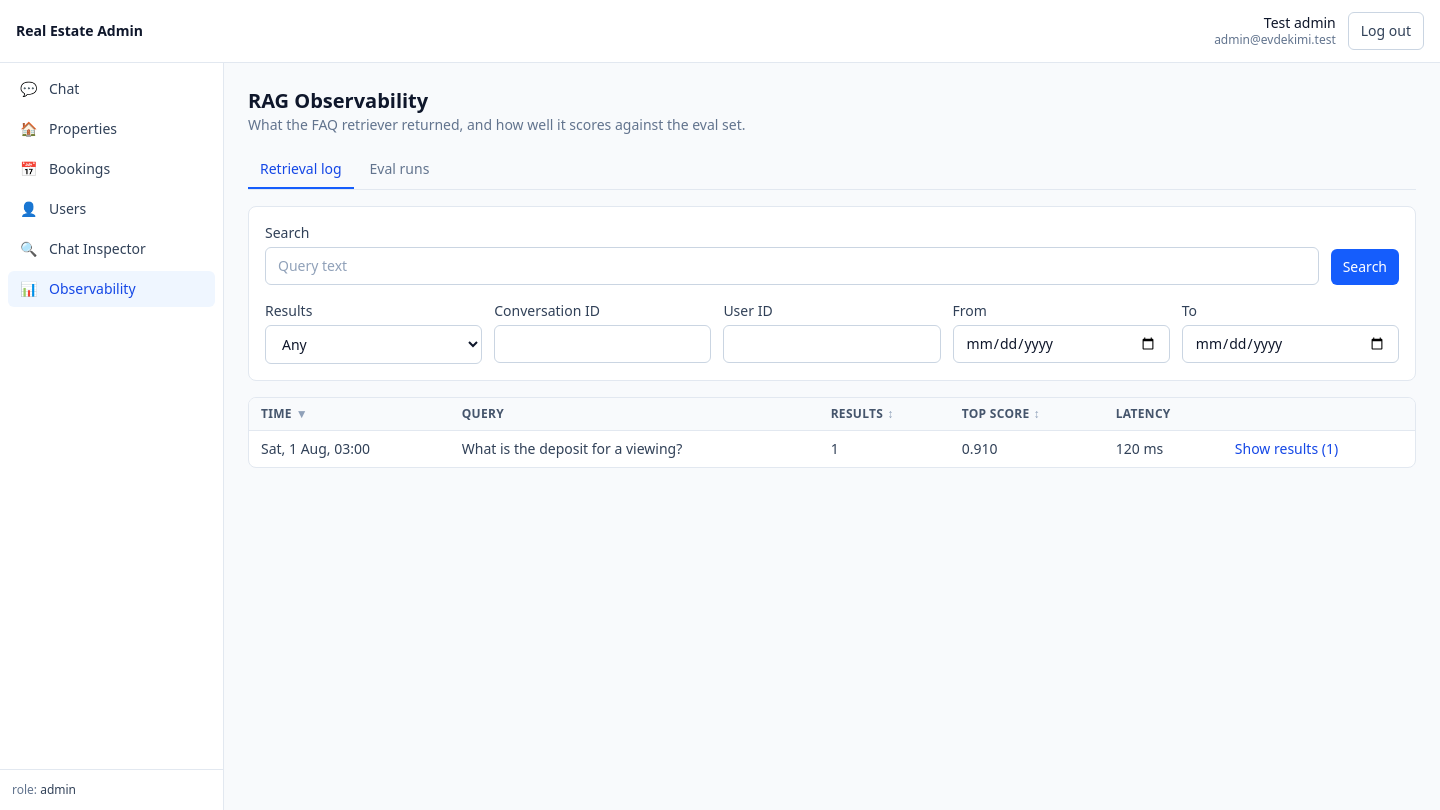
Test: ObservabilityPage eval runs tab › switches tabs without carrying the retrieval log page state over
Expected: the text "What is the deposit for a viewing?" is shown, [450,430,819,467]
Click the tab "Eval runs": point(400, 170) [358,151,441,189]
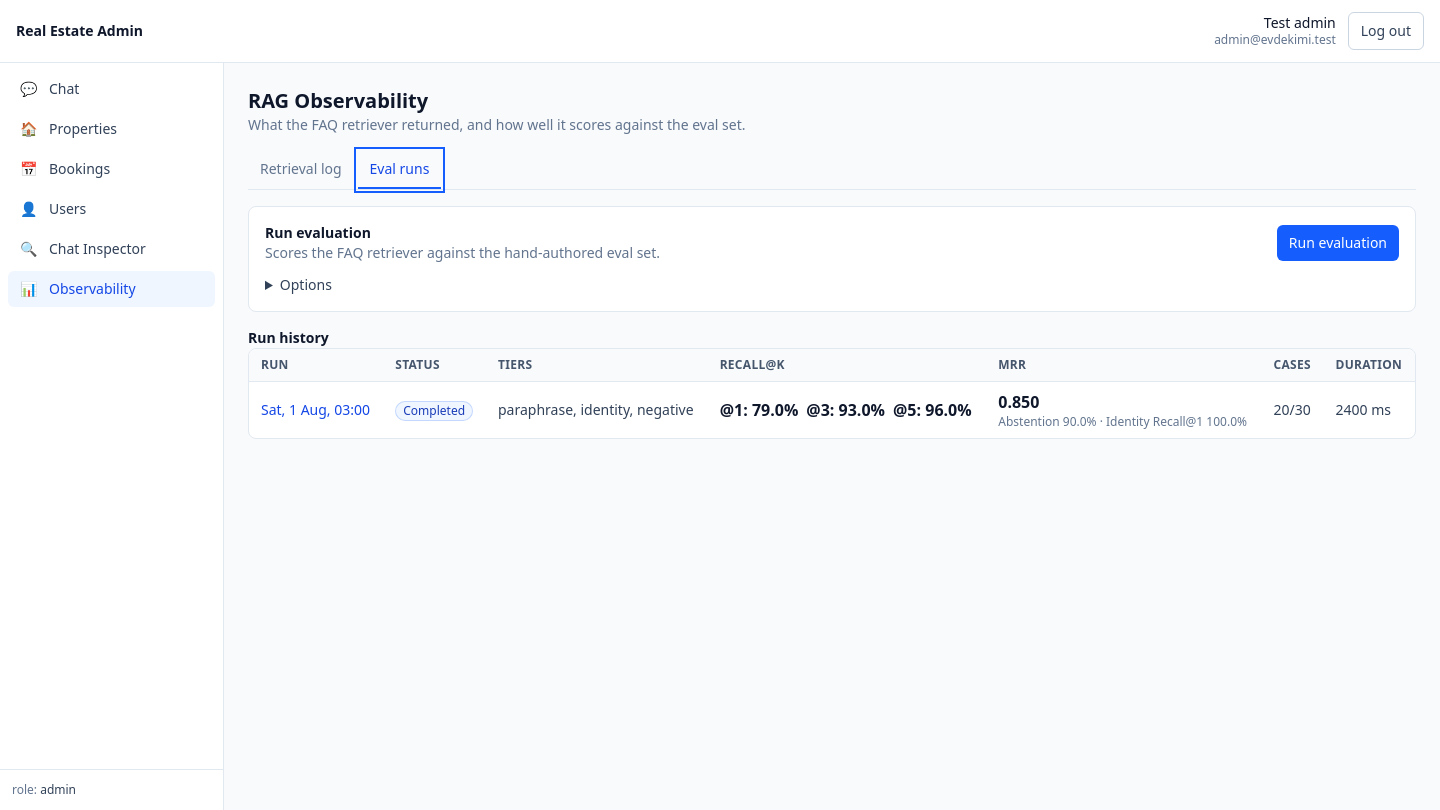
Expected: the heading "Run history" is shown, [248,328,329,347]
